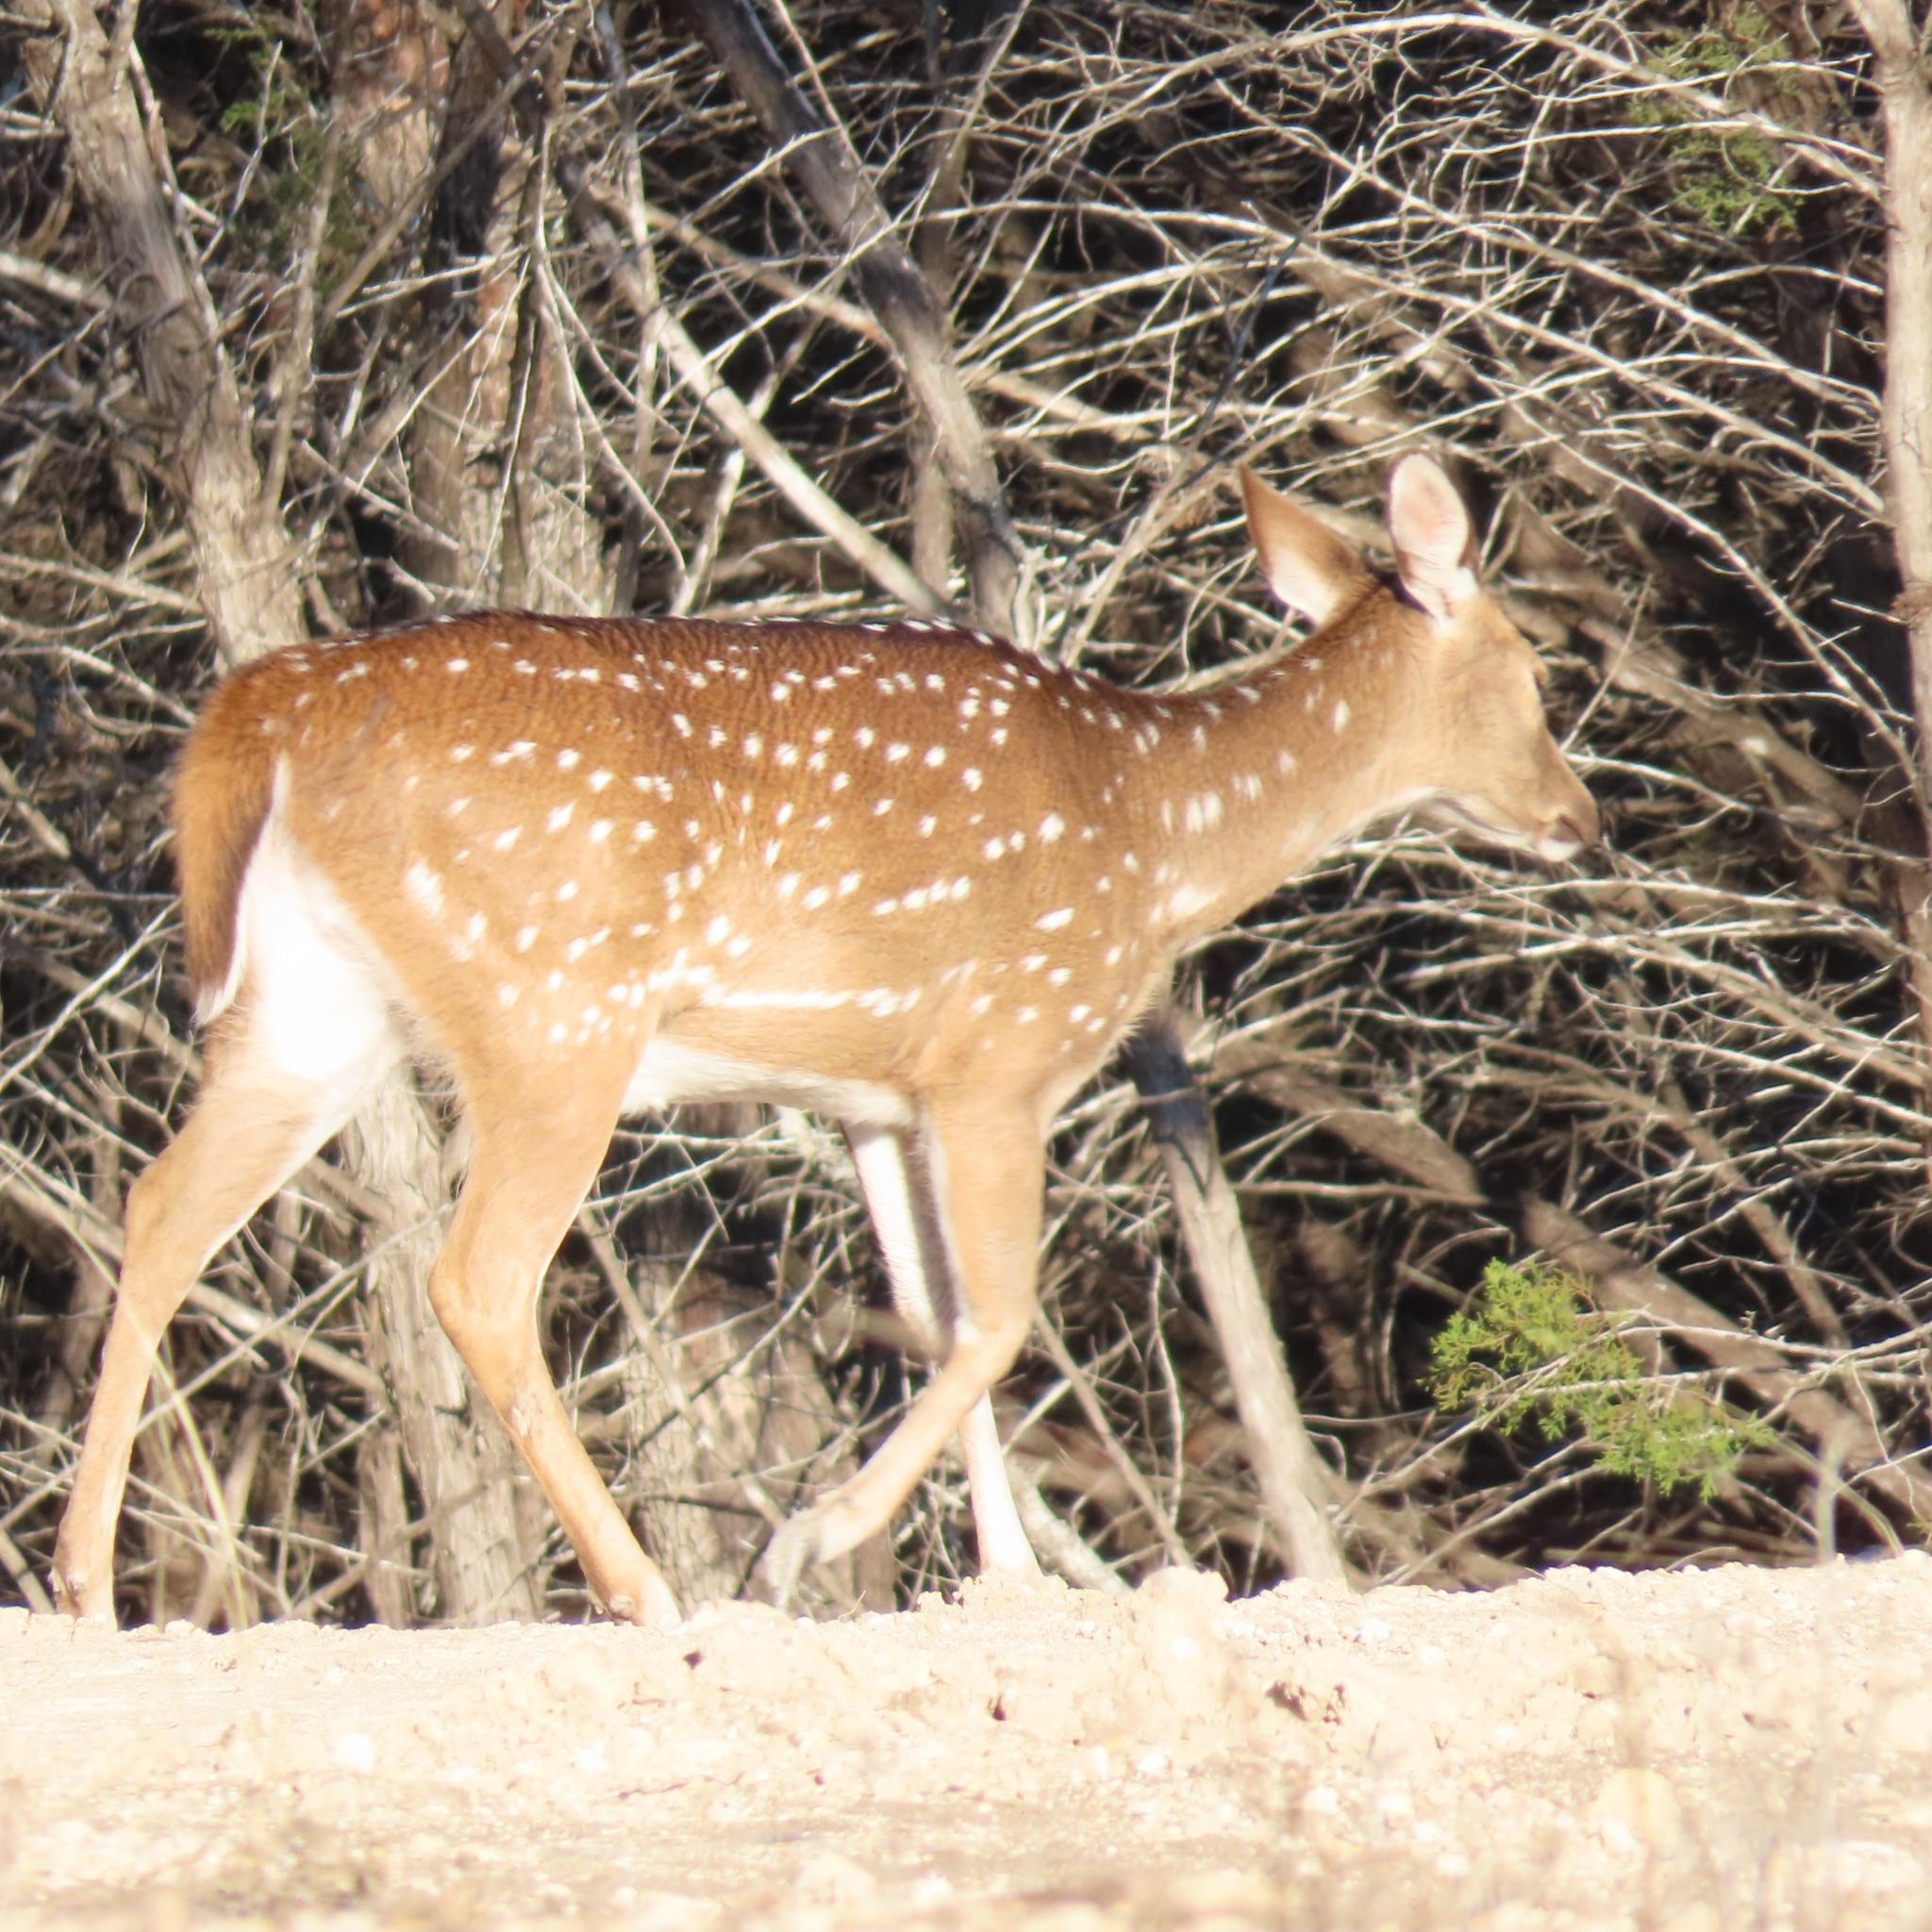Deer: (58, 453, 1596, 1626)
